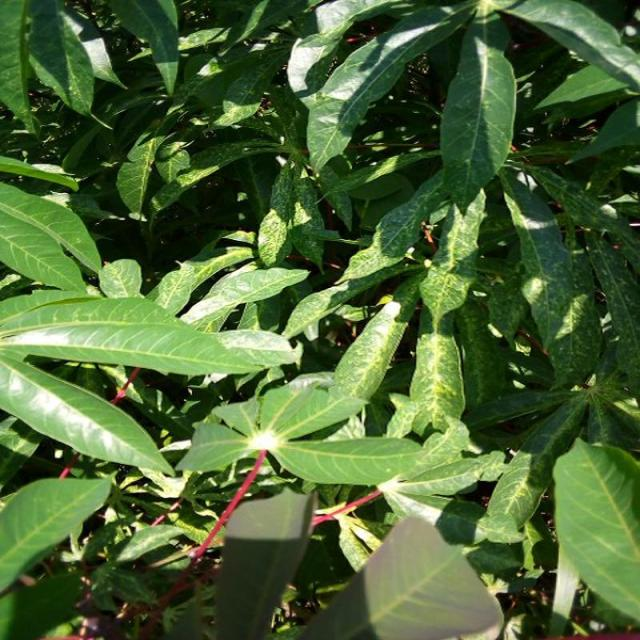cassava leaf: (0, 0, 638, 637), (294, 515, 504, 638), (0, 292, 300, 378), (551, 435, 639, 626), (438, 8, 517, 211)
